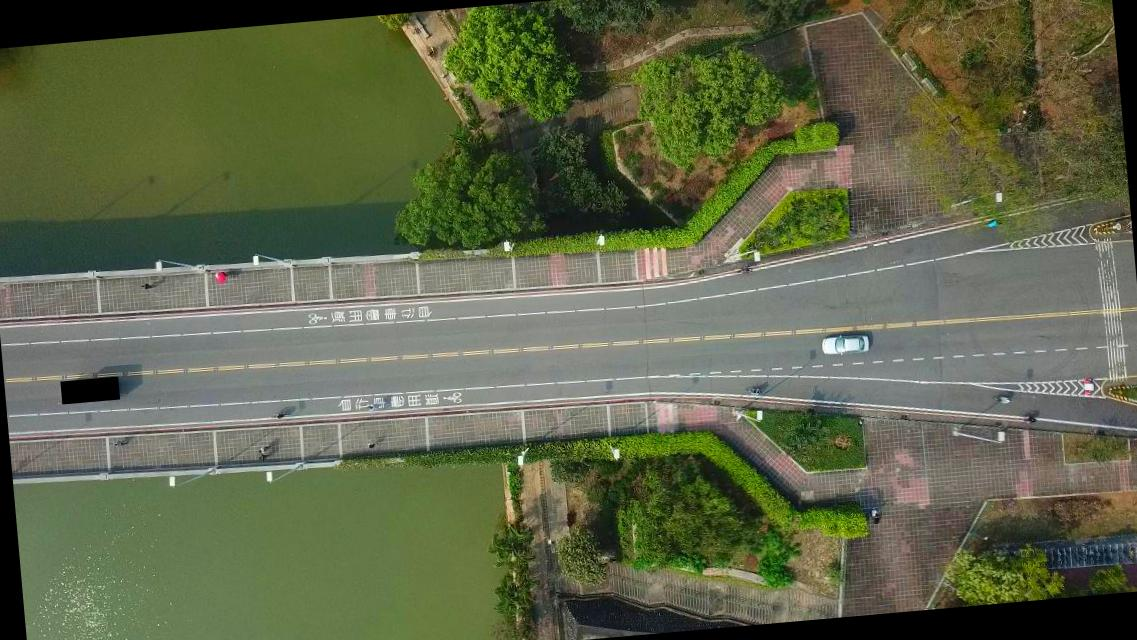vehicle: (820, 332, 869, 356)
